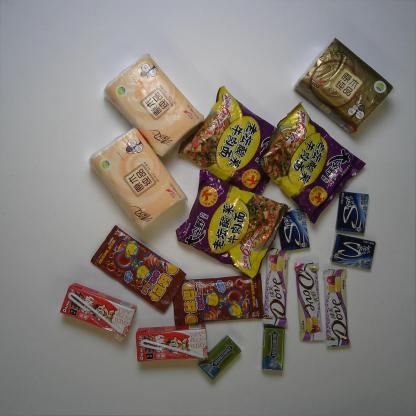Candy: (90, 224, 188, 314), (171, 271, 265, 327)
Chocolate: (292, 262, 324, 342), (322, 267, 353, 349), (260, 246, 291, 326)
Gum: (197, 335, 242, 382), (330, 233, 376, 270), (334, 189, 370, 235), (276, 209, 311, 252), (260, 326, 286, 372)
Instant Noodles: (257, 100, 368, 224), (174, 167, 290, 284), (178, 86, 278, 196)
Milk: (58, 281, 138, 340), (134, 323, 209, 363)
Tissue: (102, 53, 205, 159), (87, 126, 188, 234), (292, 36, 396, 137)
